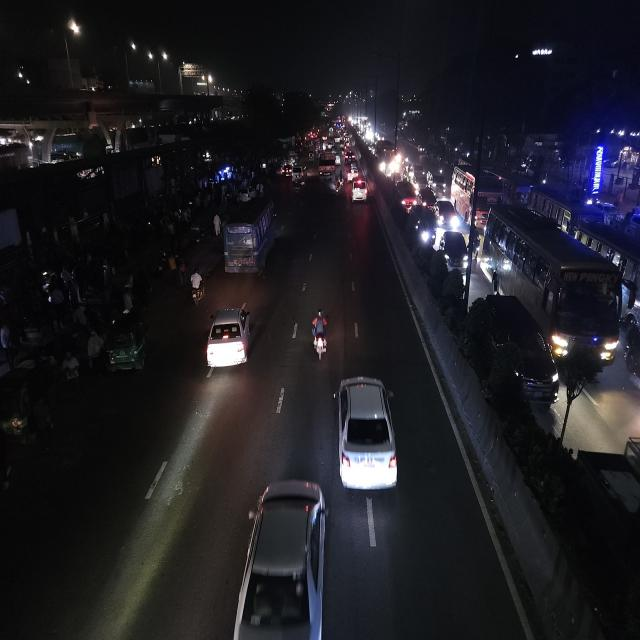bus: (489, 205, 623, 360), (221, 196, 279, 281), (451, 164, 503, 228), (375, 139, 399, 174)
car: (238, 475, 330, 639), (571, 440, 640, 624), (480, 291, 562, 414), (331, 370, 401, 504), (202, 301, 254, 375), (438, 227, 470, 275), (622, 430, 640, 508), (434, 197, 460, 230), (397, 179, 418, 211), (351, 176, 368, 205), (430, 172, 448, 196), (419, 186, 437, 210), (292, 164, 304, 186)
cng: (0, 352, 52, 446), (102, 310, 152, 377)
motorcycle: (623, 312, 640, 396), (308, 306, 332, 364), (187, 268, 205, 308), (335, 176, 343, 196)
pedestrian: (119, 286, 138, 317), (175, 255, 188, 287)
pickup_van: (319, 150, 335, 181)
